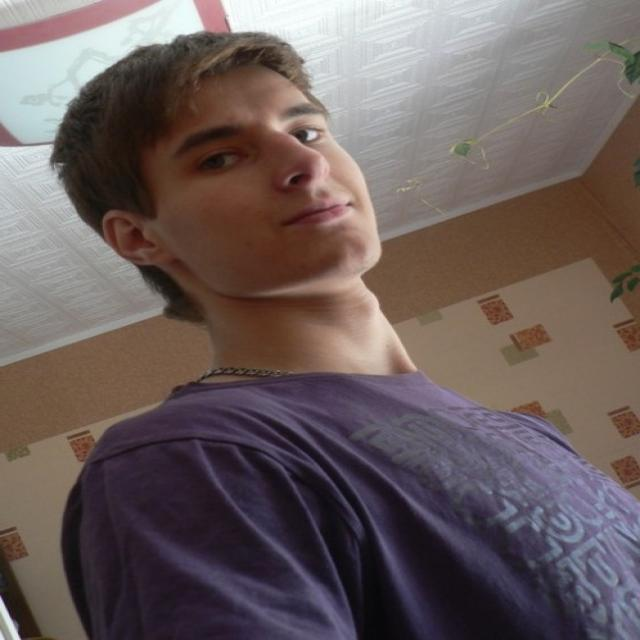earlobe: (147, 240, 178, 267)
eye: (191, 148, 250, 175), (287, 126, 330, 148)
nose: (288, 166, 343, 198)
wholeear: (101, 209, 178, 267)
